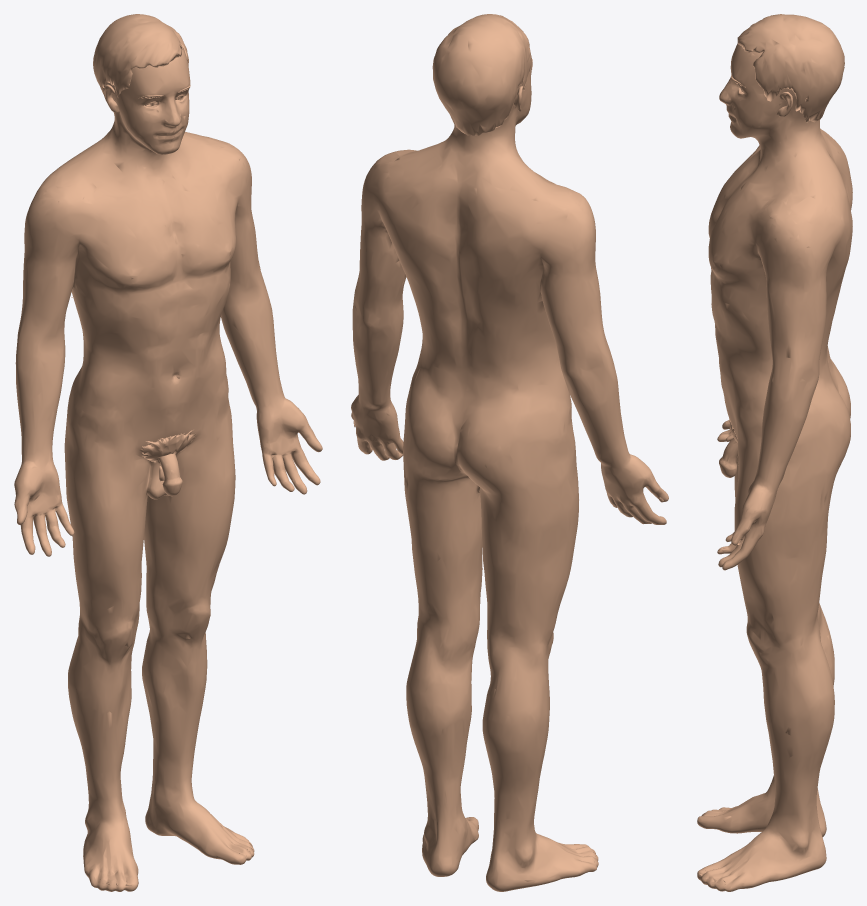
The model's file is integumentary.glb.
3 views of the same model, side by side, from view 1: azimuth 30°, elevation 25°; view 2: azimuth 150°, elevation 25°; view 3: azimuth 270°, elevation 25° (orthographic). The views are drawn at different scales.
Parts seen in each view (by area): view 1: FJ2810, FJ2813, FJ2815; view 2: FJ2810, FJ2813; view 3: FJ2810, FJ2813.
Boxes of the visible parts, <box> form: FJ2810: <box>14,46,322,891</box>; FJ2813: <box>93,14,188,97</box>; FJ2815: <box>140,429,195,461</box>; FJ2810: <box>351,53,668,891</box>; FJ2813: <box>432,14,530,135</box>; FJ2810: <box>697,43,852,891</box>; FJ2813: <box>737,14,844,122</box>.
Size of the model in its own units: 0.6669 by 1.73 by 0.292.
